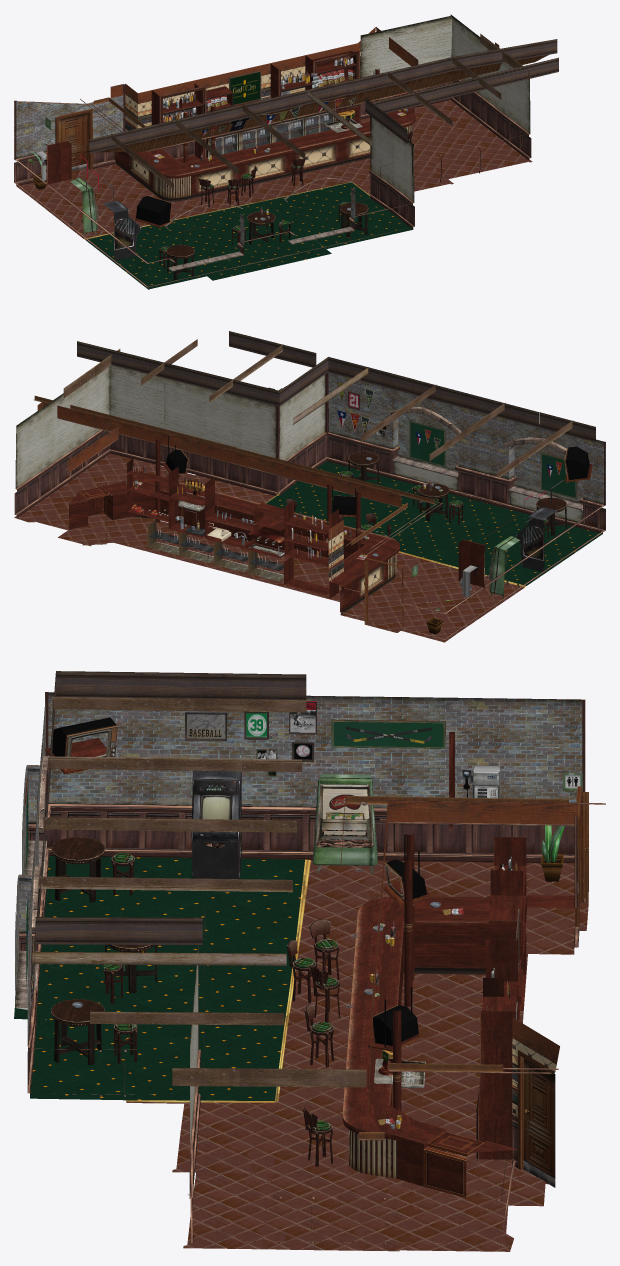
Rendered from old_bar.glb.
The picture shows the model from 3 angles, top to bottom: view 1: azimuth 30°, elevation 25°; view 2: azimuth 150°, elevation 25°; view 3: azimuth 270°, elevation 25°; orthographic projection. The views are drawn at different scales.
Parts seen in each view (by area): view 1: FrontSide_13, FrontSide_23, FrontSide_28, FrontSide_24, FrontSide_0, FrontSide_9, FrontSide_16, FrontSide_10, FrontSide_35, FrontSide_14, FrontSide_2, FrontSide_15 (+12 smaller); view 2: FrontSide_0, FrontSide_13, FrontSide_24, FrontSide_9, FrontSide_28, FrontSide_23, FrontSide_66, FrontSide_16, FrontSide_14, FrontSide_35, FrontSide_64, FrontSide_10 (+12 smaller); view 3: FrontSide_13, FrontSide_23, FrontSide_28, FrontSide_24, FrontSide_9, FrontSide_66, FrontSide_14, FrontSide_35, FrontSide_16, FrontSide_30, FrontSide_15, FrontSide_11 (+15 smaller).
Part boxes in pixels (box(x1,y1,x2,y2)): FrontSide_13: box(17, 100, 532, 238); FrontSide_23: box(85, 182, 412, 289); FrontSide_28: box(89, 33, 558, 198); FrontSide_24: box(46, 50, 415, 265); FrontSide_0: box(360, 14, 530, 202); FrontSide_9: box(14, 48, 531, 289); FrontSide_16: box(110, 27, 499, 130); FrontSide_10: box(81, 55, 548, 152); FrontSide_35: box(84, 69, 374, 279); FrontSide_14: box(14, 106, 355, 245); FrontSide_2: box(208, 112, 336, 156); FrontSide_15: box(55, 56, 360, 170); FrontSide_0: box(15, 365, 582, 523); FrontSide_13: box(14, 453, 524, 642); FrontSide_24: box(69, 425, 577, 614); FrontSide_9: box(14, 372, 605, 639); FrontSide_28: box(63, 331, 595, 579); FrontSide_23: box(266, 461, 602, 585); FrontSide_66: box(328, 372, 605, 473); FrontSide_16: box(37, 401, 401, 581); FrontSide_14: box(328, 401, 605, 504); FrontSide_35: box(168, 407, 582, 587); FrontSide_64: box(375, 420, 576, 499); FrontSide_10: box(34, 395, 434, 544); FrontSide_13: box(126, 860, 588, 1251); FrontSide_23: box(14, 856, 304, 1100); FrontSide_28: box(32, 671, 519, 1178); FrontSide_24: box(24, 719, 578, 1187); FrontSide_9: box(15, 692, 605, 1245); FrontSide_66: box(15, 692, 582, 990); FrontSide_14: box(15, 749, 582, 1044); FrontSide_35: box(15, 755, 419, 1102); FrontSide_16: box(367, 800, 578, 1131); FrontSide_30: box(103, 853, 340, 1166); FrontSide_15: box(393, 786, 588, 1187); FrontSide_11: box(45, 738, 484, 1197).
Size of what is drawn, in the model's own units: 19.14 by 3.9 by 10.89.
Materials: 67 (67 with a texture image).
